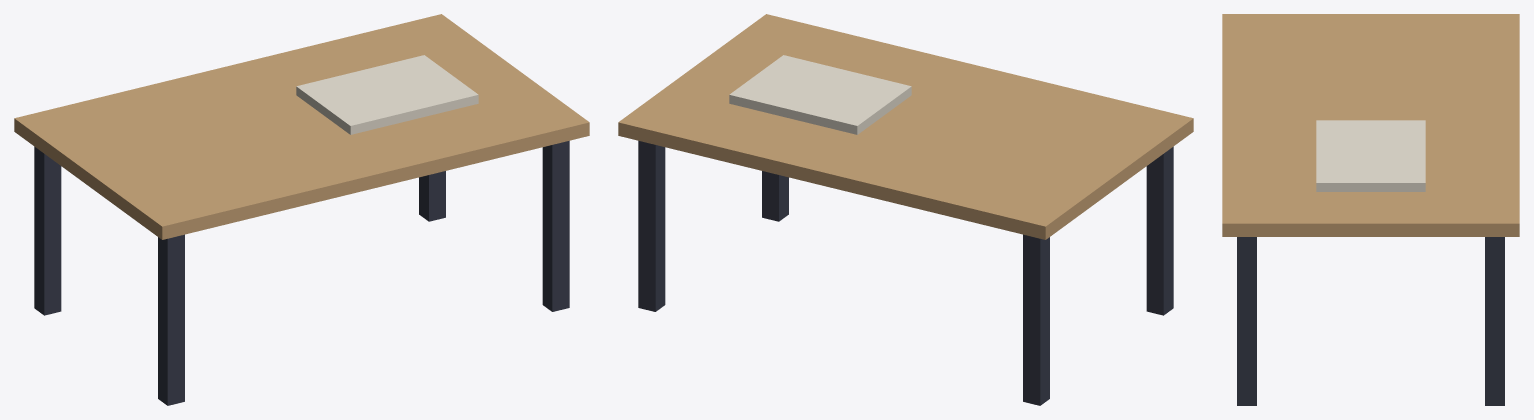
The picture shows the model from 3 angles, left to right: view 1: azimuth 30°, elevation 25°; view 2: azimuth 150°, elevation 25°; view 3: azimuth 270°, elevation 25°; orthographic projection.
Visible parts, largest first — view 1: top, magazines, leg_rf, leg_lf, leg_lb, leg_rb; view 2: top, magazines, leg_rb, leg_lb, leg_lf, leg_rf; view 3: top, magazines, leg_rb, leg_rf.
Boxes of the visible parts, left/top/right/bottom form: top: left=14, top=14, right=589, bottom=239; magazines: left=296, top=55, right=478, bottom=134; leg_rf: left=542, top=140, right=569, bottom=311; leg_lf: left=158, top=234, right=184, bottom=405; leg_lb: left=34, top=146, right=61, bottom=315; leg_rb: left=419, top=171, right=445, bottom=221; top: left=618, top=14, right=1193, bottom=239; magazines: left=729, top=55, right=911, bottom=134; leg_rb: left=638, top=140, right=665, bottom=311; leg_lb: left=1023, top=234, right=1049, bottom=405; leg_lf: left=1146, top=146, right=1173, bottom=315; leg_rf: left=762, top=171, right=788, bottom=221; top: left=1222, top=14, right=1519, bottom=236; magazines: left=1316, top=120, right=1425, bottom=191; leg_rb: left=1485, top=237, right=1504, bottom=405; leg_rf: left=1237, top=237, right=1256, bottom=405.
Size of the model in its own units: 1 by 0.44 by 0.6.
